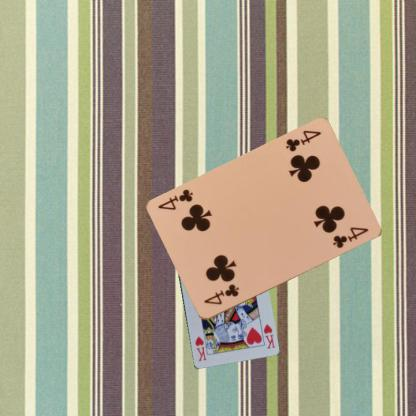4c: (282, 128, 323, 154), (200, 281, 240, 307)
Kh: (261, 321, 276, 350)
